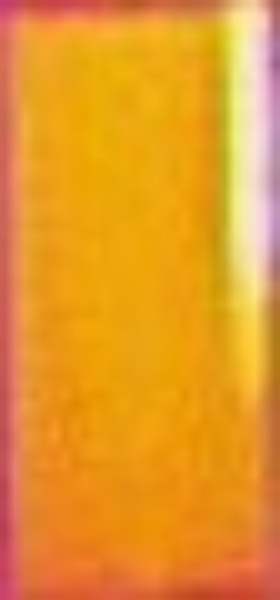Diode: (215, 1, 280, 414)
